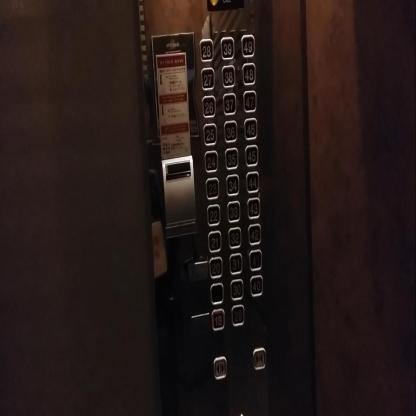18: (211, 307, 225, 332)
20: (209, 256, 223, 280)
21: (208, 230, 221, 252)
22: (206, 204, 220, 226)
23: (205, 176, 219, 198)
24: (204, 150, 218, 171)
25: (203, 122, 218, 145)
26: (202, 95, 216, 118)
27: (201, 66, 214, 90)
28: (199, 39, 214, 60)
29: (231, 304, 245, 326)
30: (230, 279, 243, 299)
31: (229, 252, 243, 276)
32: (228, 226, 240, 248)
33: (226, 200, 240, 221)
34: (225, 173, 239, 196)
35: (224, 146, 238, 170)
36: (223, 120, 237, 142)
37: (222, 92, 236, 114)
38: (222, 64, 235, 86)
39: (220, 36, 235, 59)
40: (250, 274, 263, 296)
41: (249, 249, 262, 270)
42: (248, 222, 261, 244)
43: (248, 196, 260, 219)
44: (245, 170, 258, 192)
45: (245, 144, 258, 166)
46: (244, 117, 258, 140)
47: (243, 90, 256, 112)
48: (242, 62, 256, 85)
49: (241, 34, 254, 57)
close: (253, 346, 266, 370)
empty: (210, 282, 224, 305)
open: (213, 355, 227, 380)
